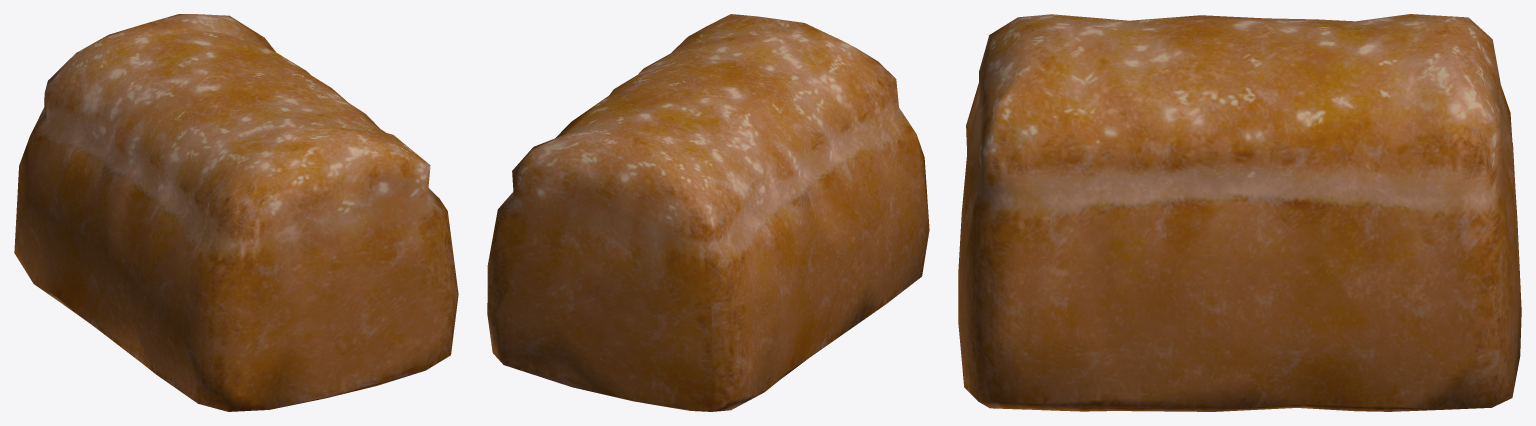
Rendered from Bread_7.obj.
The picture shows the model from 3 angles, left to right: view 1: azimuth 30°, elevation 25°; view 2: azimuth 150°, elevation 25°; view 3: azimuth 270°, elevation 25°; orthographic projection. The views are drawn at different scales.
Parts seen in each view (by area): view 1: bread3_b_mesh; view 2: bread3_b_mesh; view 3: bread3_b_mesh.
Boxes of the visible parts, bbox=[...] form: bread3_b_mesh: bbox=[14, 14, 458, 411]; bread3_b_mesh: bbox=[487, 14, 929, 411]; bread3_b_mesh: bbox=[958, 14, 1521, 411].
Size of the model in its own units: 0.1708 by 0.1483 by 0.2439.
